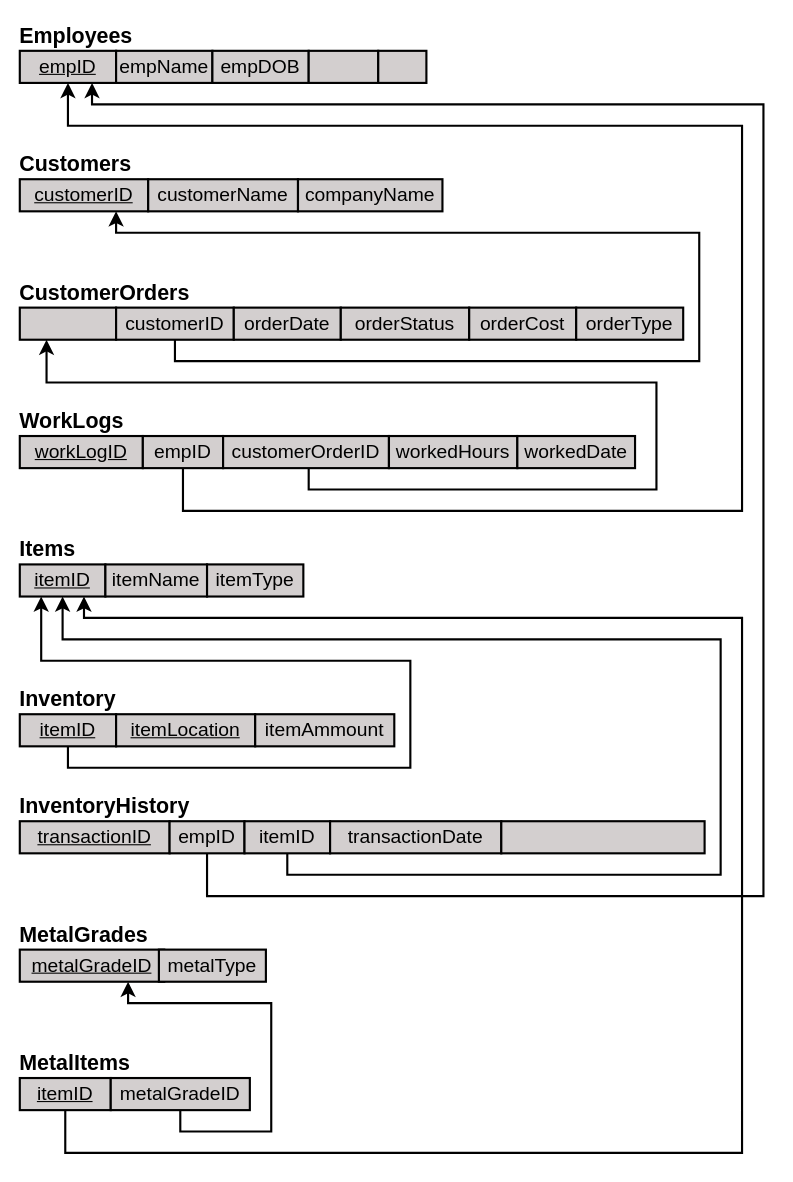
Image size: 793x1182. Some labels were removed from this diagram. The box of each missing label's shape, as (x1, y1, x2, y2) in pixels:
orderID: (18, 306, 117, 340)
salary: (307, 49, 379, 83)
ssn: (377, 49, 427, 83)
transactionAmmount: (500, 820, 705, 854)
